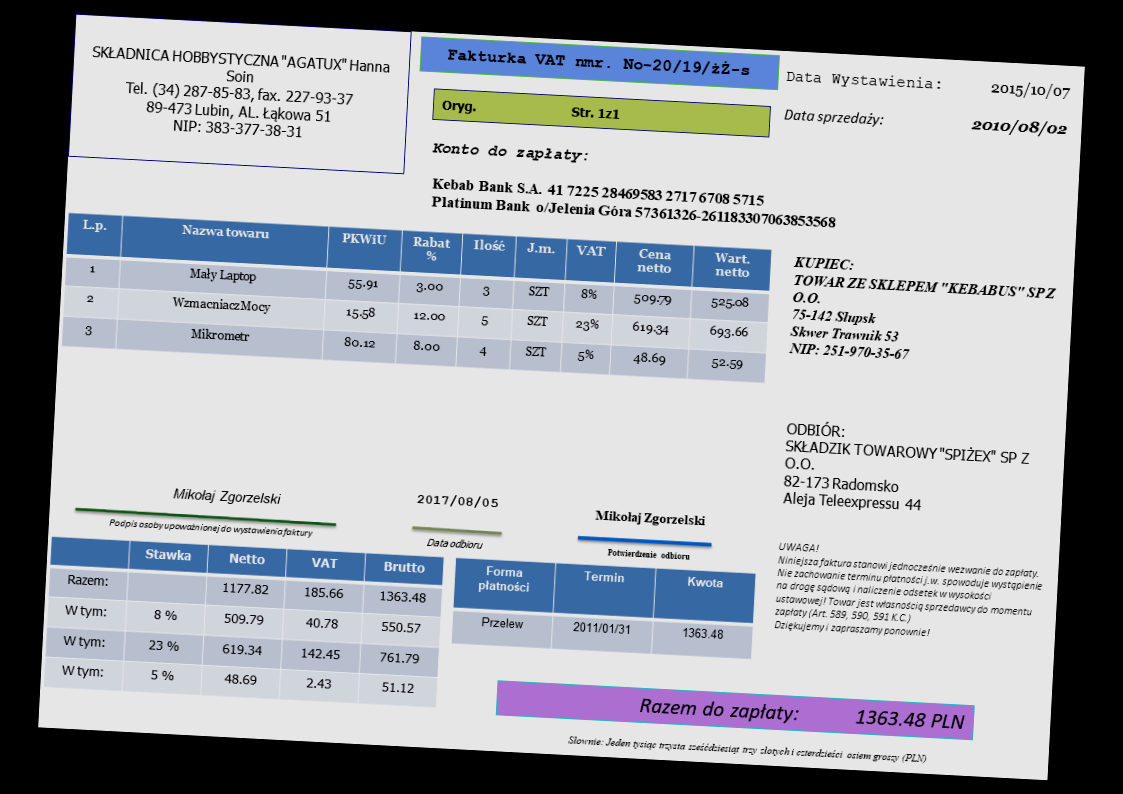Table: (60, 212, 773, 385), (41, 535, 446, 708), (449, 555, 757, 662)
TextBox: (786, 251, 1065, 373), (86, 42, 393, 148), (771, 540, 1045, 646), (780, 416, 1034, 523), (428, 174, 840, 231), (636, 693, 967, 735), (565, 732, 930, 767), (444, 44, 754, 80), (439, 95, 622, 125), (106, 516, 316, 539), (429, 138, 592, 166), (784, 67, 943, 95), (590, 506, 708, 531), (171, 485, 286, 509), (969, 115, 1069, 141), (781, 106, 885, 130), (413, 488, 500, 514), (988, 78, 1072, 103), (603, 545, 692, 563), (424, 535, 486, 553)
